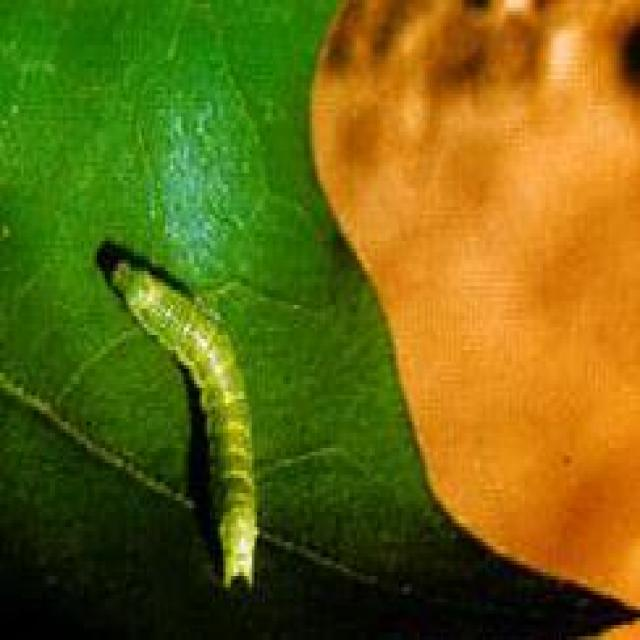BeetArmyWorm-Larva-: (101, 249, 268, 599)
